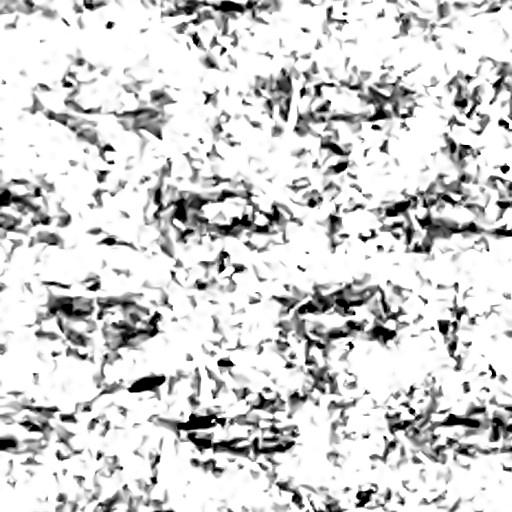egg: (178, 415, 223, 429), (128, 376, 164, 392), (218, 358, 233, 365)
